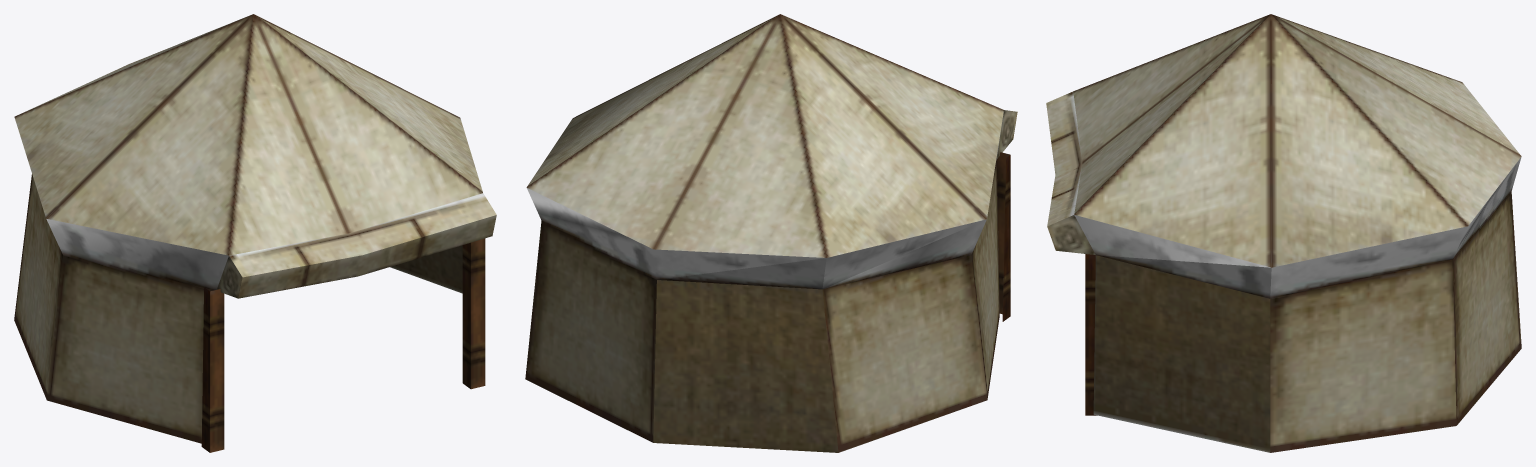
The model's file is nsm-general_obj_03.fbx.
The picture shows the model from 3 angles, left to right: view 1: azimuth 30°, elevation 25°; view 2: azimuth 150°, elevation 25°; view 3: azimuth 270°, elevation 25°; orthographic projection.
Visible parts, largest first — view 1: Mesh02; view 2: Mesh02; view 3: Mesh02.
Boxes of the visible parts, bbox=[...] form: Mesh02: bbox=[14, 14, 496, 452]; Mesh02: bbox=[525, 14, 1017, 452]; Mesh02: bbox=[1046, 14, 1521, 452].
Bounding box in the file's own units: 6.72 × 5.1 × 6.56.
